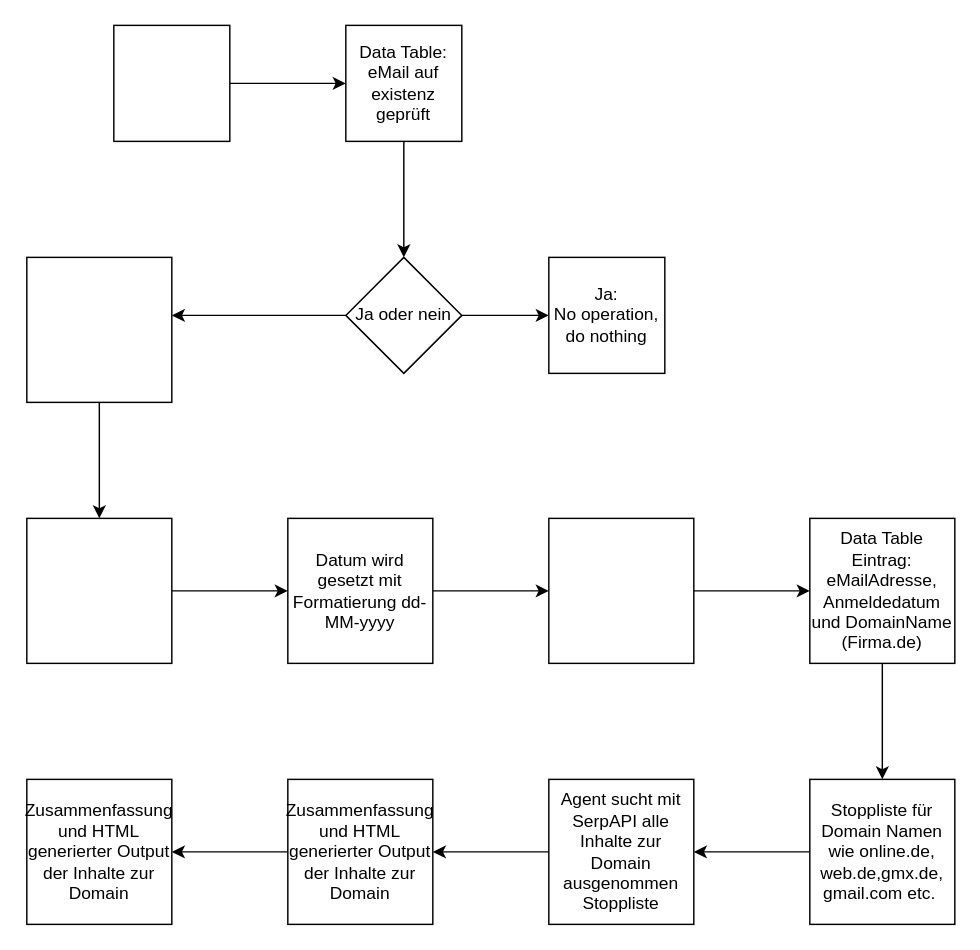
This 980x950 diagram has some shape labels left out. Each missing label, with the box of its shape:
:Edit Fields: EMail-Adresse wird nach dem @ herausgefiltert. Beispiel: Firma.de: (25, 517, 172, 663)
EMailAdresse wird komplett übernommen Beispiel: Hans@firma.de: (547, 517, 694, 663)
Nein: Filter eMailAdresse wird RegEx geprüft und herausgefiltert: (25, 256, 172, 402)
Webhook: empfängt eMail: (112, 24, 230, 141)
